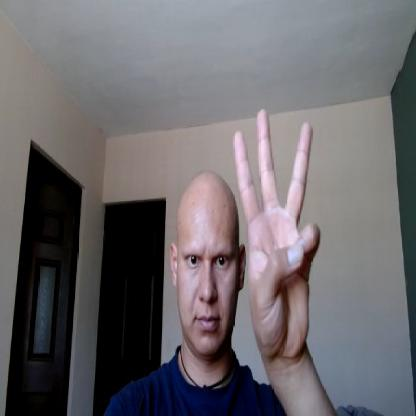W: (233, 110, 323, 360)
